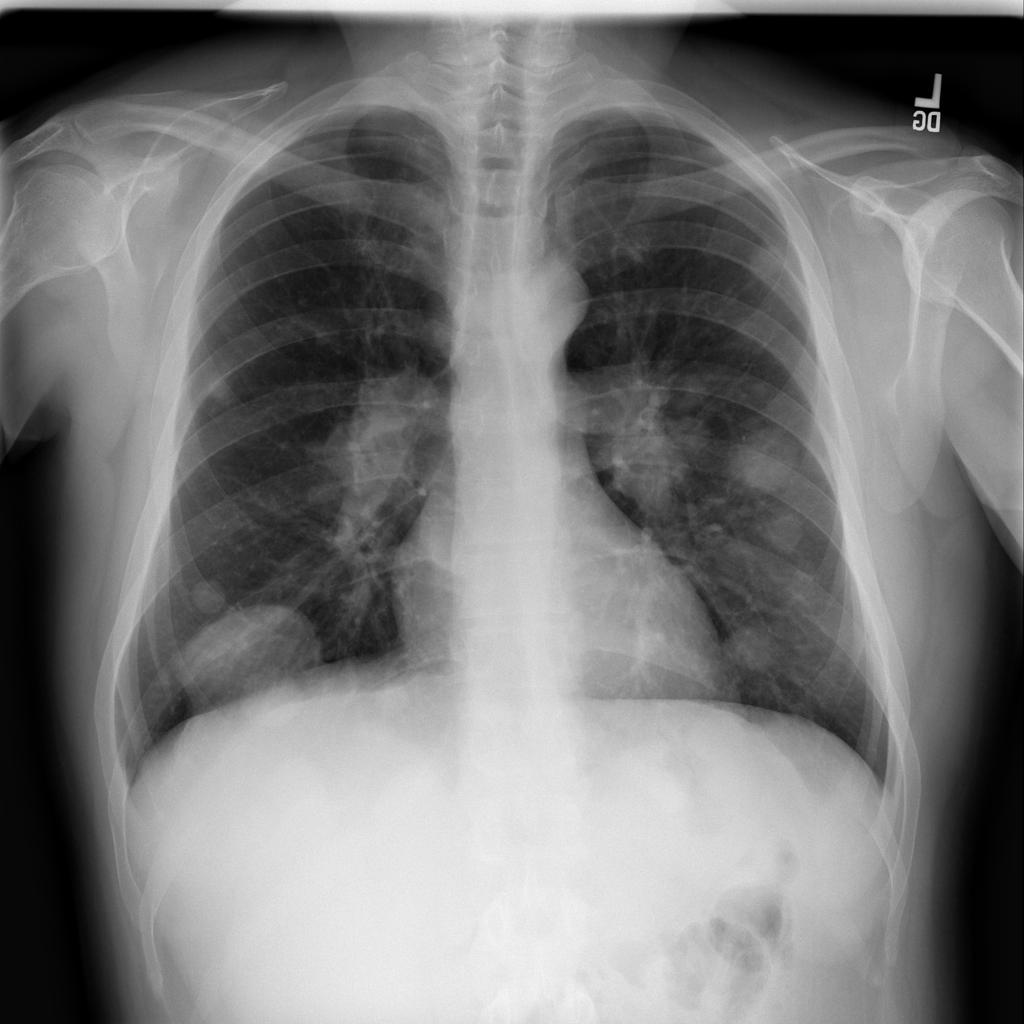nodule: (186, 611, 333, 743), (726, 420, 807, 498), (228, 669, 320, 736), (718, 611, 791, 684), (734, 231, 805, 301), (187, 350, 257, 421), (360, 666, 432, 735), (175, 562, 247, 628), (746, 498, 819, 563)
